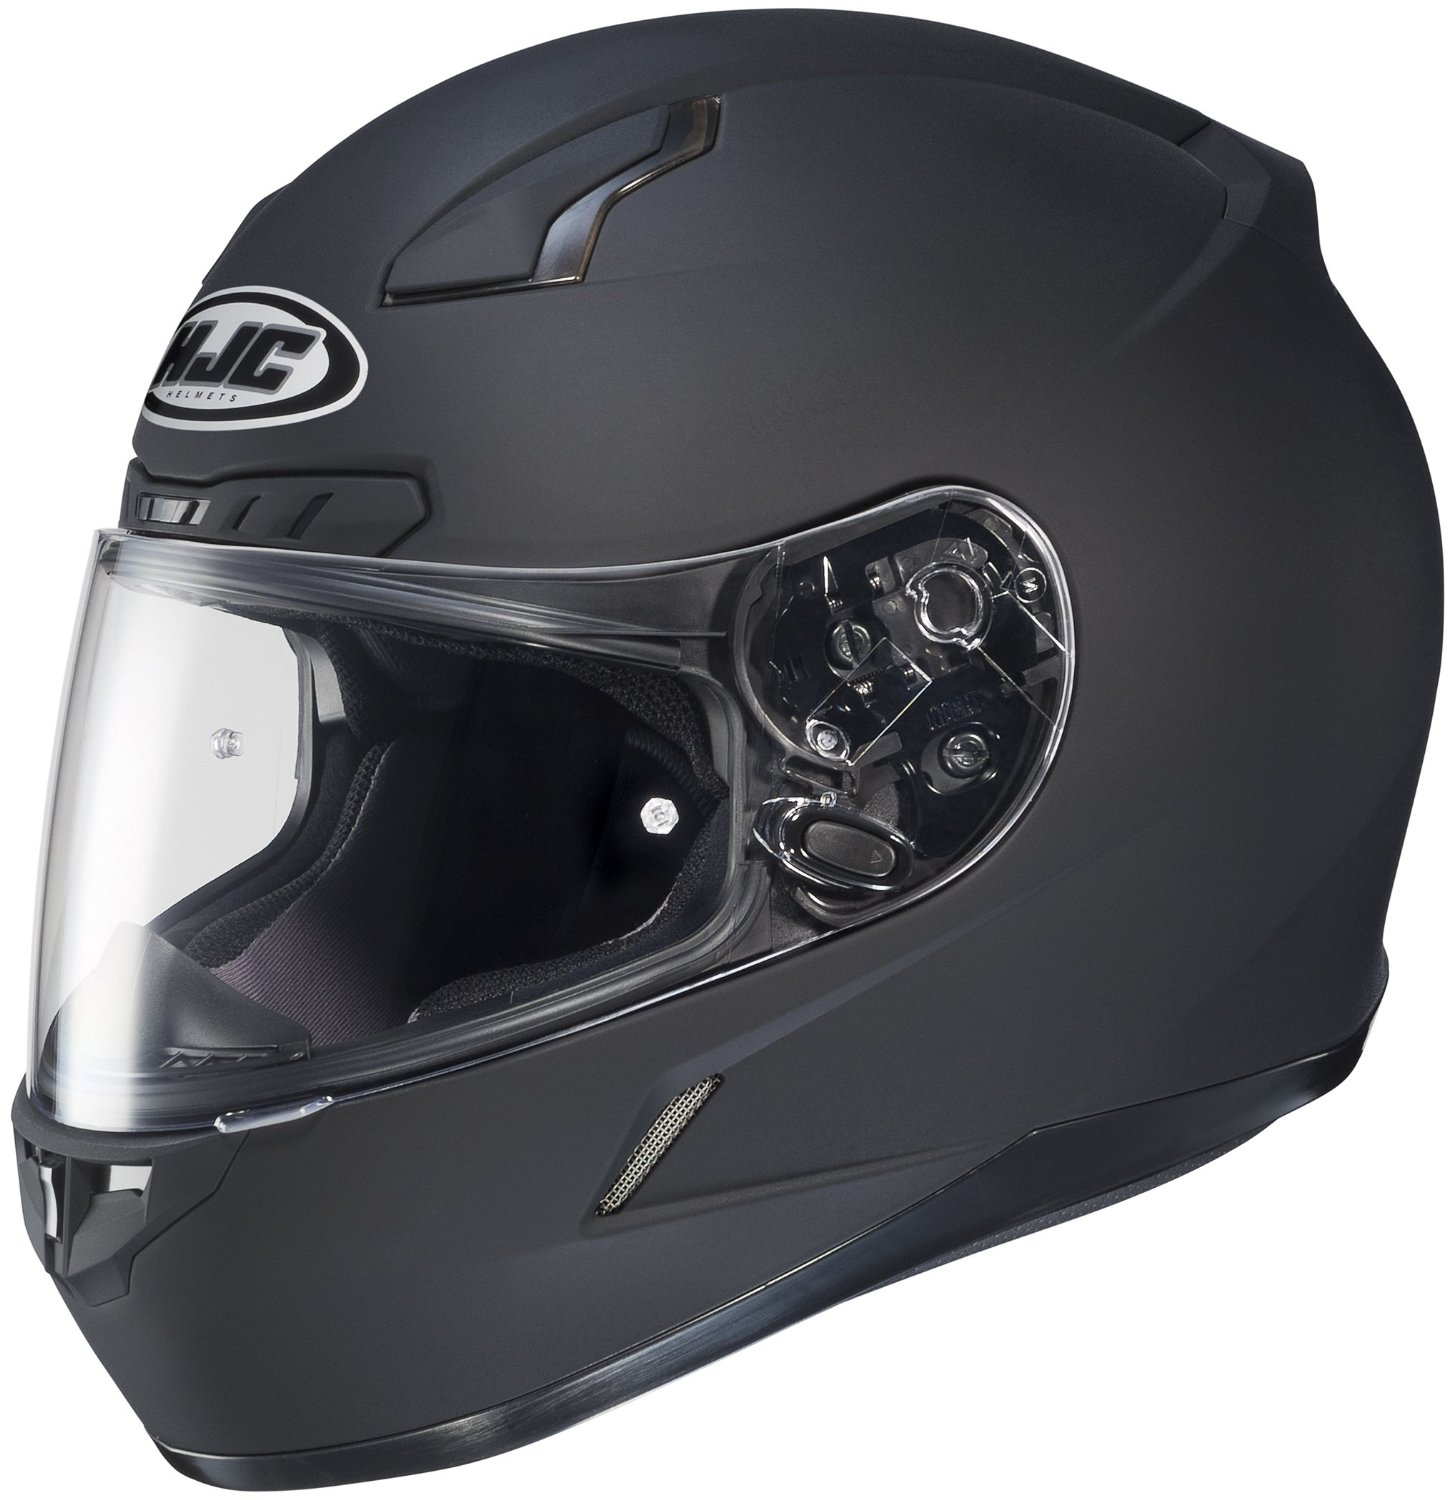with_helmet: (8, 5, 1452, 1491)
